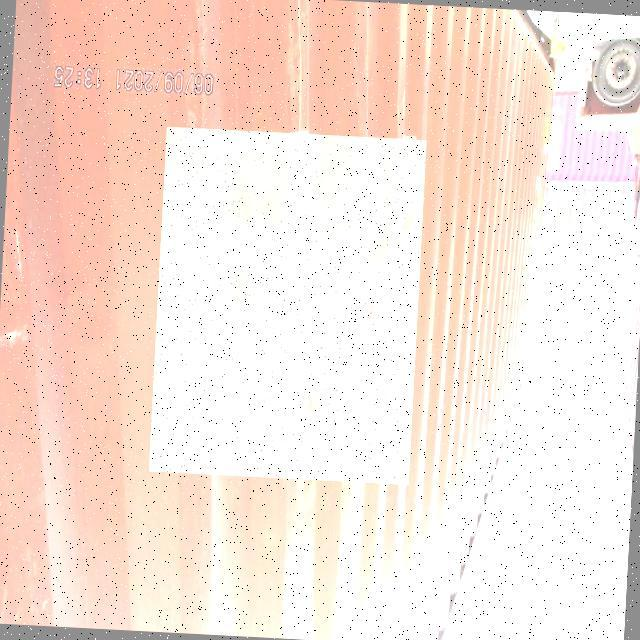Dent: (149, 127, 427, 485)
